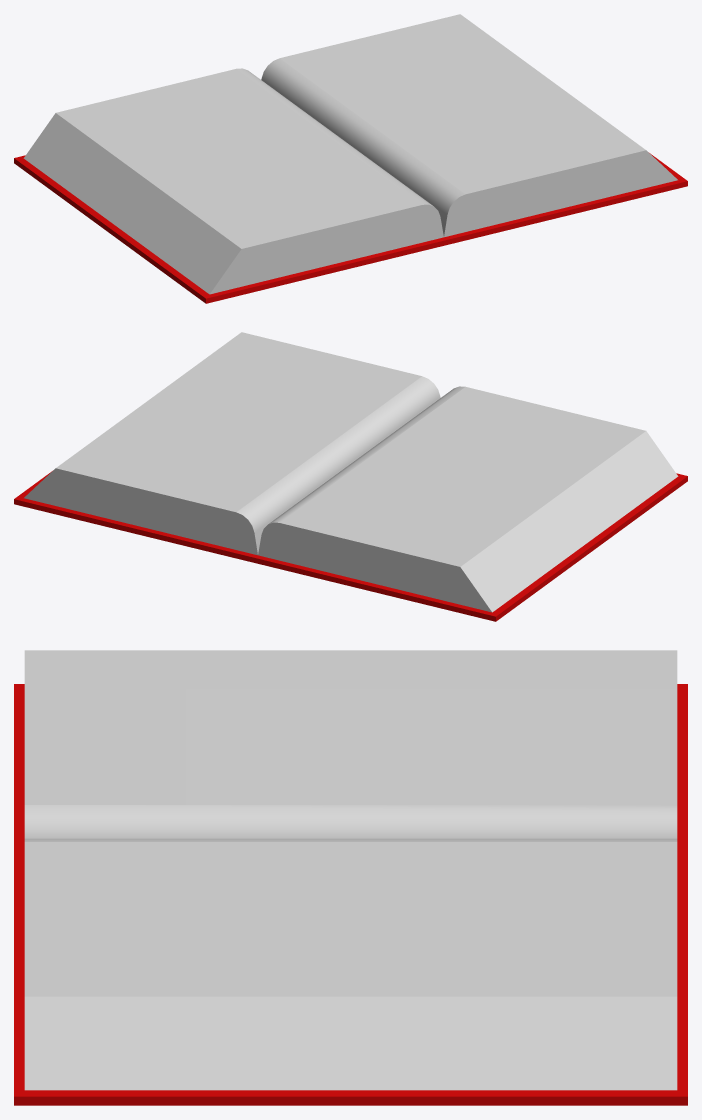
File: Book_Open_Red.fbx
3 renders of one model, top to bottom at view 1: azimuth 30°, elevation 25°; view 2: azimuth 150°, elevation 25°; view 3: azimuth 270°, elevation 25°, orthographic. The views are drawn at different scales.
Visible parts, largest first — view 1: Book_Open_Red; view 2: Book_Open_Red; view 3: Book_Open_Red.
Part boxes in pixels (left/top/right/bottom): Book_Open_Red: left=14, top=14, right=687, bottom=303; Book_Open_Red: left=14, top=332, right=687, bottom=621; Book_Open_Red: left=14, top=650, right=687, bottom=1105.
Size of the model in its own units: 39.42 by 3.38 by 27.21.
